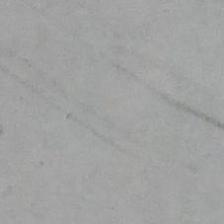Non_Crack: (1, 2, 224, 220)
